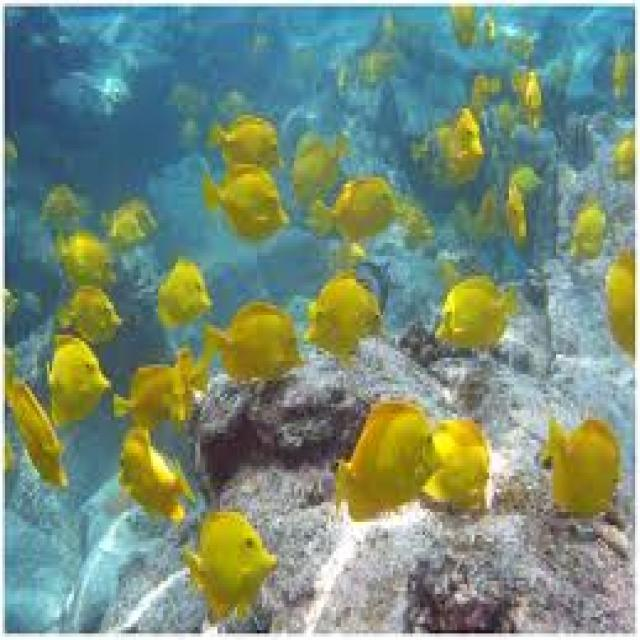YellowTang: (321, 382, 435, 531), (182, 503, 277, 623), (430, 396, 503, 535), (544, 400, 625, 518), (201, 291, 300, 382), (8, 355, 67, 494), (435, 272, 520, 367), (198, 161, 289, 245), (304, 269, 388, 360), (51, 319, 110, 438), (307, 165, 398, 242), (116, 420, 182, 521), (437, 98, 495, 194), (46, 230, 121, 298), (204, 113, 281, 177), (280, 127, 347, 195), (148, 258, 212, 323), (602, 249, 640, 350), (127, 352, 178, 421), (66, 274, 114, 340), (506, 164, 536, 256), (600, 38, 631, 118), (572, 198, 608, 259), (610, 132, 636, 188)
